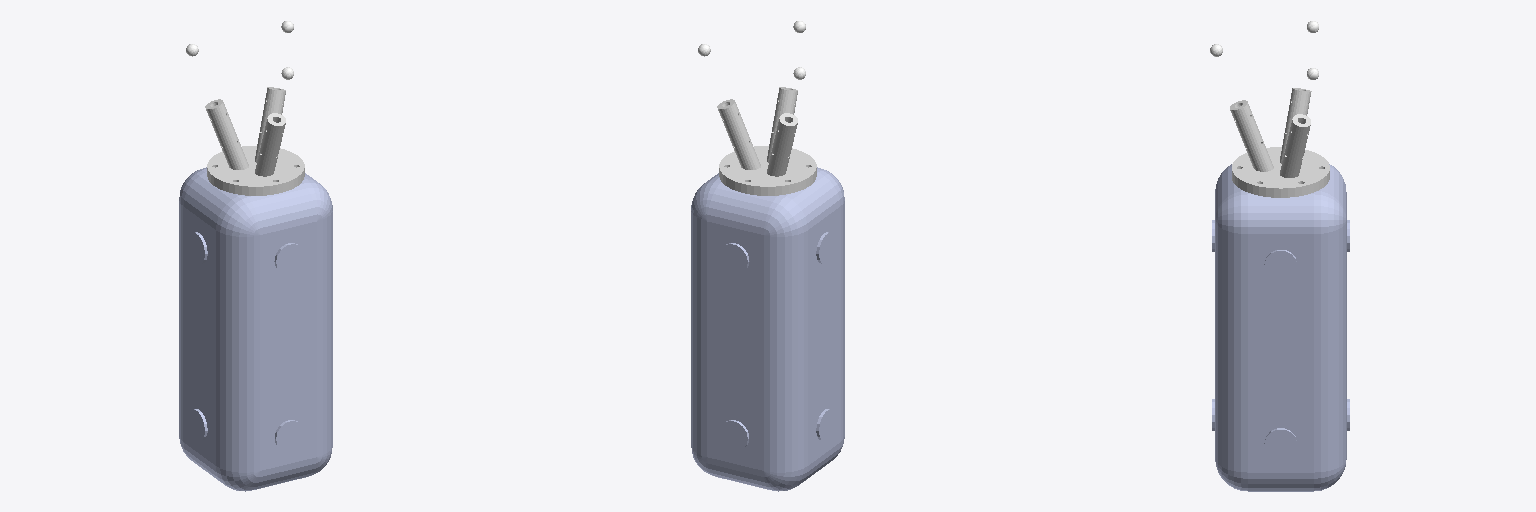
robot.urdf — redhawk:
<robot
  name="redhawk">
  <link name="world"/>
  <link
    name="base_link">
    <inertial>
      <origin
        xyz="-0.242696775784451 -0.0630818724626695 0.123350574572946"
        rpy="0 0 0" />
      <mass
        value="190.807213510781" />
      <inertia
        ixx="17.148394236804"
        ixy="-0.0193627735618233"
        ixz="0.236569669331495"
        iyy="40.1810883491995"
        iyz="-0.0155922676417971"
        izz="53.7814456090568" />
    </inertial>
    <visual>
      <origin
        xyz="0 0 0"
        rpy="0 0 0" />
      <geometry>
        <mesh
          filename="package://redhawk_moveit/meshes/base_link.STL" />
      </geometry>
      <material
        name="">
        <color
          rgba="0.792156862745098 0.819607843137255 0.933333333333333 1" />
      </material>
    </visual>
    <collision>
      <origin
        xyz="0 0 0"
        rpy="0 0 0" />
      <geometry>
        <mesh
          filename="package://redhawk_moveit/meshes/base_link.STL" />
      </geometry>
    </collision>
  </link>

  <joint name="fixed" type="fixed">
    <parent link="world"/>
    <child link="base_link"/>
  </joint>

  <link
    name="link1">
    <inertial>
      <origin
        xyz="-3.46944695195361E-18 8.130935723491E-05 -0.0381604608040978"
        rpy="0 0 0" />
      <mass
        value="0.784004998006185" />
      <inertia
        ixx="0.00105221140887869"
        ixy="-8.10783458797717E-20"
        ixz="-8.96418691774108E-20"
        iyy="0.00105532277356618"
        iyz="-3.85419139979644E-09"
        izz="0.001349932660026" />
    </inertial>
    <visual>
      <origin
        xyz="0 0 0"
        rpy="0 0 0" />
      <geometry>
        <mesh
          filename="package://redhawk_moveit/meshes/link1.STL" />
      </geometry>
      <material
        name="">
        <color
          rgba="0.792156862745098 0.819607843137255 0.933333333333333 1" />
      </material>
    </visual>
    <collision>
      <origin
        xyz="0 0 0"
        rpy="0 0 0" />
      <geometry>
        <mesh
          filename="package://redhawk_moveit/meshes/link1.STL" />
      </geometry>
    </collision>
  </link>

  <joint
    name="joint1"
    type="revolute">
    <origin
      xyz="0 0 0.396113"
      rpy="3.14159265358979 -9.08740001431347E-47 3.14159265358979" />
    <parent
      link="base_link" />
    <child
      link="link1" />
    <axis
      xyz="0 0 1" />
    <limit lower="-3.49" upper="3.49" effort="1000" velocity="0.5"/>
  </joint>

  <link
    name="link2">
    <inertial>
      <origin
        xyz="-1.94289029309402E-16 0.155455741173879 -0.124534060356386"
        rpy="0 0 0" />
      <mass
        value="3.74499800319706" />
      <inertia
        ixx="0.110285859722925"
        ixy="1.20796220160134E-16"
        ixz="-1.76603380418917E-17"
        iyy="0.0105248162125277"
        iyz="0.015057589986012"
        izz="0.105565156784639" />
    </inertial>
    <visual>
      <origin
        xyz="0 0 0"
        rpy="0 0 0" />
      <geometry>
        <mesh
          filename="package://redhawk_moveit/meshes/link2.STL" />
      </geometry>
      <material
        name="">
        <color
          rgba="0.792156862745098 0.819607843137255 0.933333333333333 1" />
      </material>
    </visual>
    <collision>
      <origin
        xyz="0 0 0"
        rpy="0 0 0" />
      <geometry>
        <mesh
          filename="package://redhawk_moveit/meshes/link2.STL" />
      </geometry>
    </collision>
  </link>

  <joint
    name="joint2"
    type="revolute">
    <origin
      xyz="0 -0.04826 -0.0381"
      rpy="-1.5707963267949 -1.17961196366423E-15 0" />
    <parent
      link="link1" />
    <child
      link="link2" />
    <axis
      xyz="0 0 1" />
    <limit lower="-1.57" upper="1.57" effort="1000" velocity="0.5"/>
  </joint>

  <link
    name="link3">
    <inertial>
      <origin
        xyz="-1.3878E-17 -0.0027083 -0.062451"
        rpy="0 0 0" />
      <mass
        value="1.185" />
      <inertia
        ixx="0.0023346"
        ixy="-2.2057E-19"
        ixz="2.639E-19"
        iyy="0.0022189"
        iyz="-3.3525E-05"
        izz="0.0019087" />
    </inertial>
    <visual>
      <origin
        xyz="0 0 0"
        rpy="0 0 0" />
      <geometry>
        <mesh
          filename="package://redhawk_moveit/meshes/link3.STL" />
      </geometry>
      <material
        name="">
        <color
          rgba="0.79216 0.81961 0.93333 1" />
      </material>
    </visual>
    <collision>
      <origin
        xyz="0 0 0"
        rpy="0 0 0" />
      <geometry>
        <mesh
          filename="package://redhawk_moveit/meshes/link3.STL" />
      </geometry>
    </collision>
  </link>

  <joint
    name="joint3"
    type="revolute">
    <origin
      xyz="0 0.4445 -0.126238"
      rpy="3.14159265358979 6.93889390390723E-17 0" />
    <parent
      link="link2" />
    <child
      link="link3" />
    <axis
      xyz="0 0 -1" />
	<limit lower="-3.14" upper="3.14" effort="1000" velocity="0.5"/>
  </joint>

  <link
    name="link4">
    <inertial>
      <origin
        xyz="-2.42861286636753E-17 0.0003313284114487 -0.15427332018414"
        rpy="0 0 0" />
      <mass
        value="2.87457615664221" />
      <inertia
        ixx="0.0234190289824234"
        ixy="1.41997682393559E-19"
        ixz="5.2151597957512E-18"
        iyy="0.0234055865436832"
        iyz="0.000128740619244794"
        izz="0.00446702614178736" />
    </inertial>
    <visual>
      <origin
        xyz="0 0 0"
        rpy="0 0 0" />
      <geometry>
        <mesh
          filename="package://redhawk_moveit/meshes/link4.STL" />
      </geometry>
      <material
        name="">
        <color
          rgba="0.792156862745098 0.819607843137255 0.933333333333333 1" />
      </material>
    </visual>
    <collision>
      <origin
        xyz="0 0 0"
        rpy="0 0 0" />
      <geometry>
        <mesh
          filename="package://redhawk_moveit/meshes/link4.STL" />
      </geometry>
    </collision>
  </link>

  <joint
    name="joint4"
    type="continuous">
    <origin
      xyz="0 -0.0546099999999999 -0.072898"
      rpy="-1.5707963267949 6.93889390390723E-17 -6.93889390390722E-16" />
    <parent
      link="link3" />
    <child
      link="link4" />
    <axis
      xyz="0 0 1" />
    <limit effort="1000" velocity="0.85"/>
  </joint>

  <link
    name="link5">
    <inertial>
      <origin
        xyz="0 -0.00280217821796258 -0.0743410955268955"
        rpy="0 0 0" />
      <mass
        value="0.997048418279697" />
      <inertia
        ixx="0.00207561674496563"
        ixy="3.01356436576703E-20"
        ixz="2.52091925823776E-19"
        iyy="0.00200100288765086"
        iyz="-5.15339131425933E-05"
        izz="0.00120168883221164" />
    </inertial>
    <visual>
      <origin
        xyz="0 0 0"
        rpy="0 0 0" />
      <geometry>
        <mesh
          filename="package://redhawk_moveit/meshes/link5.STL" />
      </geometry>
      <material
        name="">
        <color
          rgba="0.792156862745098 0.819607843137255 0.933333333333333 1" />
      </material>
    </visual>
    <collision>
      <origin
        xyz="0 0 0"
        rpy="0 0 0" />
      <geometry>
        <mesh
          filename="package://redhawk_moveit/meshes/link5.STL" />
      </geometry>
    </collision>
  </link>

  <joint
    name="joint5"
    type="revolute">
    <origin
      xyz="0 0.04826 -0.28194"
      rpy="1.5708 -6.9389E-16 -6.9389E-17" />
    <parent
      link="link4" />
    <child
      link="link5" />
    <axis
      xyz="0 0 -1" />
    <limit lower="-3.14" upper="3.14" effort="1000" velocity="0.85"/>
  </joint>

  <link
    name="link6">
    <inertial>
      <origin
        xyz="-1.04083408558608E-17 0 0.198830566523384"
        rpy="0 0 0" />
      <mass
        value="4.79143893371128" />
      <inertia
        ixx="0.07937014489573"
        ixy="-8.49903797787081E-19"
        ixz="2.30708915172358E-18"
        iyy="0.07937014489573"
        iyz="2.37951170760947E-19"
        izz="0.00877304530397157" />
    </inertial>
    <visual>
      <origin
        xyz="0 0 0"
        rpy="0 0 0" />
      <geometry>
        <mesh
          filename="package://redhawk_moveit/meshes/link6.STL" />
      </geometry>
      <material
        name="">
        <color
          rgba="0.792156862745098 0.819607843137255 0.933333333333333 1" />
      </material>
    </visual>
    <collision>
      <origin
        xyz="0 0 0"
        rpy="0 0 0" />
      <geometry>
        <mesh
          filename="package://redhawk_moveit/meshes/link6.STL" />
      </geometry>
    </collision>
  </link>

  <joint
    name="joint6"
    type="continuous">
    <origin
      xyz="0 -0.305181 -0.0927862"
      rpy="-1.5707963267949 6.93889390390723E-17 -9.71445146547011E-16" />
    <parent
      link="link5" />
    <child
      link="link6" />
    <axis
      xyz="0 0 1" />
    <limit effort="1000" velocity="0.85"/>
  </joint>

  <!-- BEGIN END EFFECTOR -->
  
  <link
    name="brushholder_link">
    <inertial>
      <origin
        xyz="0 0 0"
        rpy="0 0 0" />
      <mass
        value="0.1" />
      <inertia
        ixx="0.05"
        ixy="0"
        ixz="0"
        iyy="0.05"
        iyz="0"
        izz="0.01" />
    </inertial>
    <visual>
      <origin
        xyz="0 0 0"
        rpy="0 0 0" />
      <geometry>
        <mesh
          filename="package://redhawk_moveit/meshes/brushholder.STL"
          scale="0.001 0.001 0.001" />
      </geometry>
      <material
        name="">
        <color
          rgba="0.9 0.9 0.9 1" />
      </material>
    </visual>
    <collision>
      <origin
        xyz="0 0 0"
        rpy="0 0 0" />
      <geometry>
        <mesh
          filename="package://redhawk_moveit/meshes/brushholder.STL"
          scale="0.001 0.001 0.001" />
      </geometry>
    </collision>
  </link>

  <joint
    name="brushholder_joint"
    type="fixed">
    <origin
      xyz="0 0 0"
      rpy="0 0 0" />
    <parent
      link="link6" />
    <child
      link="brushholder_link" />
    <axis
      xyz="0 0 1" />
  </joint>

  <link
    name="brush1_link">
    <inertial>
      <origin
        xyz="0 0 0"
        rpy="0 0 0" />
      <mass
        value="0.1" />
      <inertia
        ixx="0.05"
        ixy="0"
        ixz="0"
        iyy="0.05"
        iyz="0"
        izz="0.01" />
    </inertial>
    <!--<visual>
      <origin
        xyz="0 0 0"
        rpy="0 0 0" />
      <geometry>
        <mesh
          filename="package://redhawk_moveit/meshes/brush1.STL"
          scale="0.001 0.001 0.001" />
      </geometry>
      <material
        name="">
        <color
          rgba="1.0 0.1 0.0 1" />
      </material>
    </visual>
    <collision>
      <origin
        xyz="0 0 0"
        rpy="0 0 0" />
      <geometry>
        <mesh
          filename="package://redhawk_moveit/meshes/brush1.STL"
          scale="0.001 0.001 0.001" />
      </geometry>
    </collision>-->
  </link>
  
  <joint
    name="brush1_joint"
    type="fixed">
    <origin
      xyz="0 -0.0326 -0.061"
      rpy="-1.91986232679 0 0" />
    <parent
      link="brushholder_link" />
    <child
      link="brush1_link" />
    <axis
      xyz="0 0 1" />
  </joint>

  <link
    name="brush2_link">
    <inertial>
      <origin
        xyz="0 0 0"
        rpy="0 0 0" />
      <mass
        value="0.1" />
      <inertia
        ixx="0.05"
        ixy="0"
        ixz="0"
        iyy="0.05"
        iyz="0"
        izz="0.01" />
    </inertial>
    <!--<visual>
      <origin
        xyz="0 0 0"
        rpy="0 0 0" />
      <geometry>
        <mesh
          filename="package://redhawk_moveit/meshes/brush2.STL"
          scale="0.001 0.001 0.001" />
      </geometry>
      <material
        name="">
        <color
          rgba="0.1 1.0 0.0 1" />
      </material>
    </visual>
    <collision>
      <origin
        xyz="0 0 0"
        rpy="0 0 0" />
      <geometry>
        <mesh
          filename="package://redhawk_moveit/meshes/brush2.STL"
          scale="0.001 0.001 0.001" />
      </geometry>
    </collision>-->
  </link>
  
  <joint
    name="brush2_joint"
    type="fixed">
    <origin
      xyz="0.02823242816 0.0163 -0.061"
      rpy="-1.91986232679 0 2.0944" />
    <parent
      link="brushholder_link" />
    <child
      link="brush2_link" />
    <axis
      xyz="0 0 1" />
  </joint>

  <link
    name="brush3_link">
    <inertial>
      <origin
        xyz="0 0 0"
        rpy="0 0 0" />
      <mass
        value="0.1" />
      <inertia
        ixx="0.05"
        ixy="0"
        ixz="0"
        iyy="0.05"
        iyz="0"
        izz="0.01" />
    </inertial>
    <!--<visual>
      <origin
        xyz="0 0 0"
        rpy="0 0 0" />
      <geometry>
        <mesh
          filename="package://redhawk_moveit/meshes/brush3.STL"
          scale="0.001 0.001 0.001" />
      </geometry>
      <material
        name="">
        <color
          rgba="0.1 0.1 1.0 1" />
      </material>
    </visual>
    <collision>
      <origin
        xyz="0 0 0"
        rpy="0 0 0" />
      <geometry>
        <mesh
          filename="package://redhawk_moveit/meshes/brush3.STL"
          scale="0.001 0.001 0.001" />
      </geometry>
    </collision>-->
  </link>
  
  <joint
    name="brush3_joint"
    type="fixed">
    <origin
      xyz="-0.02823242816 0.0163 -0.061"
      rpy="-1.91986232679 0 4.1887902" />
    <parent
      link="brushholder_link" />
    <child
      link="brush3_link" />
    <axis
      xyz="0 0 1" />
  </joint>

  <link name="tip1_link">
    <visual>
      <geometry>
	<sphere radius="0.005" />
      </geometry>
      <material
        name="">
        <color
          rgba="1.0 1.0 1.0 0.3" />
      </material>
    </visual>
  </link>
  <joint
    name="tip1_joint"
    type="fixed">
    <origin
      xyz="0 0.05 0"
      rpy="1.57079632679 0 0" />
    <parent
      link="brush1_link" />
    <child
      link="tip1_link" />
    <axis
      xyz="0 0 1" />
  </joint>

  <link name="tip2_link">
    <visual>
      <geometry>
	<sphere radius="0.005" />
      </geometry>
      <material
        name="">
        <color
          rgba="1.0 1.0 1.0 0.3" />
      </material>
    </visual>
  </link>
  <joint
    name="tip2_joint"
    type="fixed">
    <origin
      xyz="0 0.05 0"
      rpy="1.57079632679 0 0" />
    <parent
      link="brush2_link" />
    <child
      link="tip2_link" />
    <axis
      xyz="0 0 1" />
  </joint>

  <link name="tip3_link">
    <visual>
      <geometry>
	<sphere radius="0.005" />
      </geometry>
      <material
        name="">
        <color
          rgba="1.0 1.0 1.0 0.3" />
      </material>
    </visual>
  </link>
  <joint
    name="tip3_joint"
    type="fixed">
    <origin
      xyz="0 0.05 0"
      rpy="1.57079632679 0 0" />
    <parent
      link="brush3_link" />
    <child
      link="tip3_link" />
    <axis
      xyz="0 0 1" />
  </joint>

  
  <!-- END END EFFECTOR -->

  <transmission name="trans1">
    <type>transmission_interface/SimpleTransmission</type>
    <actuator name="act1">
      <mechanicalReduction>1</mechanicalReduction>
      <hardwareInterface>PositionJointInterface</hardwareInterface>
    </actuator>
    <joint name="joint1">
      <hardwareInterface>hardware_interface/PositionJointInterface</hardwareInterface>
    </joint>
  </transmission>

  <transmission name="trans2">
    <type>transmission_interface/SimpleTransmission</type>
    <actuator name="act2">
      <mechanicalReduction>1</mechanicalReduction>
      <hardwareInterface>PositionJointInterface</hardwareInterface>
    </actuator>
    <joint name="joint2">
      <hardwareInterface>hardware_interface/PositionJointInterface</hardwareInterface>
    </joint>
  </transmission>

  <transmission name="trans3">
    <type>transmission_interface/SimpleTransmission</type>
    <actuator name="act3">
      <mechanicalReduction>1</mechanicalReduction>
      <hardwareInterface>PositionJointInterface</hardwareInterface>
    </actuator>
    <joint name="joint3">
      <hardwareInterface>hardware_interface/PositionJointInterface</hardwareInterface>
    </joint>
  </transmission>

  <transmission name="trans4">
    <type>transmission_interface/SimpleTransmission</type>
    <actuator name="act4">
      <mechanicalReduction>1</mechanicalReduction>
      <hardwareInterface>PositionJointInterface</hardwareInterface>
    </actuator>
    <joint name="joint4">
      <hardwareInterface>hardware_interface/PositionJointInterface</hardwareInterface>
    </joint>
  </transmission>

  <transmission name="trans5">
    <type>transmission_interface/SimpleTransmission</type>
    <actuator name="act5">
      <mechanicalReduction>1</mechanicalReduction>
      <hardwareInterface>PositionJointInterface</hardwareInterface>
    </actuator>
    <joint name="joint5">
      <hardwareInterface>hardware_interface/PositionJointInterface</hardwareInterface>
    </joint>
  </transmission>

  <transmission name="trans6">
    <type>transmission_interface/SimpleTransmission</type>
    <actuator name="act6">
      <mechanicalReduction>1</mechanicalReduction>
      <hardwareInterface>PositionJointInterface</hardwareInterface>
    </actuator>
    <joint name="joint6">
      <hardwareInterface>hardware_interface/PositionJointInterface</hardwareInterface>
    </joint>
  </transmission>

  <gazebo>
    <plugin name="gazebo_ros_control" filename="libgazebo_ros_control.so">
      <robotNamespace>/redhawk</robotNamespace>
    </plugin>
    <plugin name="joint_state_publisher"
	filename="libgazebo_ros_joint_state_publisher.so">
      <jointName>joint1,joint2,joint3,joint4,joint5,joint6</jointName>
    </plugin>
  </gazebo>

</robot>

--- Render facts (derived) ---
The picture shows the robot from 3 angles, left to right: view 1: azimuth 30°, elevation 25°; view 2: azimuth 150°, elevation 25°; view 3: azimuth 270°, elevation 25°; orthographic projection.
Model redhawk with 15 links and 14 joints (4 revolute, 2 continuous, 8 fixed), rooted at world, posed all joints at 0.
Visible links, largest first — view 1: link6, brushholder_link; view 2: link6, brushholder_link; view 3: link6, brushholder_link.
Link boxes in pixels (box(x1,y1,x2,y2)): link6: box(179, 167, 332, 491); brushholder_link: box(205, 87, 304, 195); link6: box(691, 167, 844, 491); brushholder_link: box(717, 87, 816, 195); link6: box(1212, 164, 1349, 491); brushholder_link: box(1230, 88, 1329, 197).
Size in the robot's own frame: 0.1067 by 0.108 by 0.3692 metres.
Meshes: 8 distinct files referenced, 2 mesh visuals loaded (2 binary STL); not drawn: 6 (reference not matched to a file when rendering).